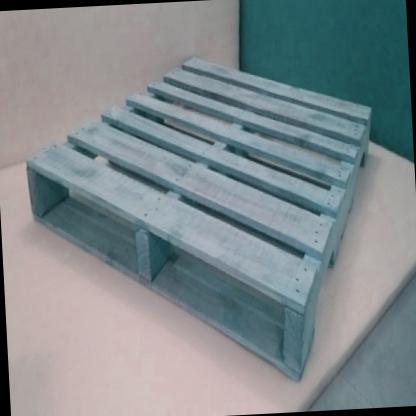BoxFace: (24, 51, 374, 386)
